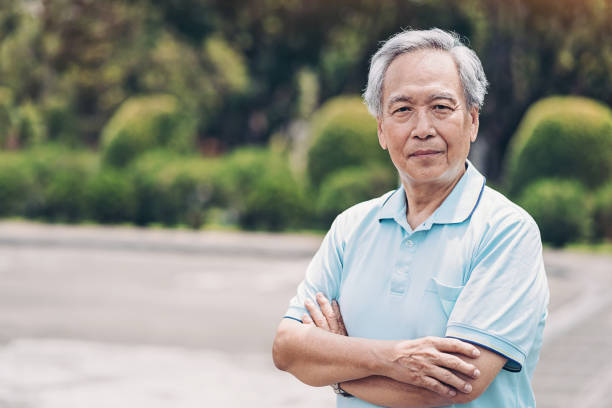person: (362, 27, 487, 187)
